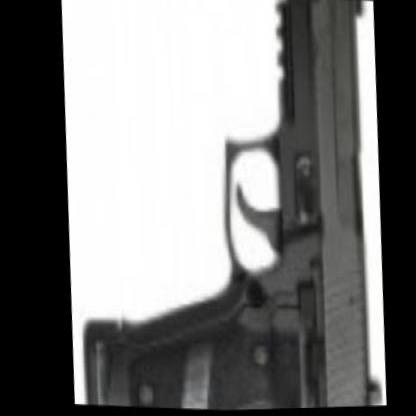pistol: (52, 0, 395, 413)
